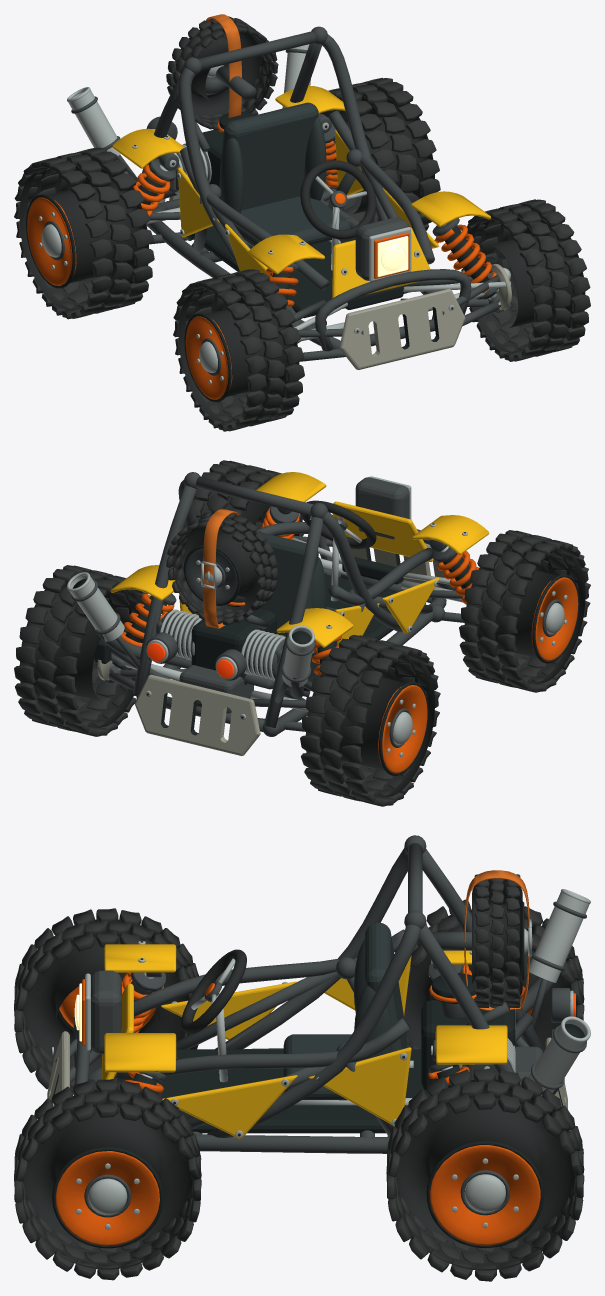
Rendered from dune-hopper.glb.
3 renders of one model, top to bottom at view 1: azimuth 30°, elevation 25°; view 2: azimuth 150°, elevation 25°; view 3: azimuth 270°, elevation 25°, orthographic. The views are drawn at different scales.
Visible parts, largest first — view 1: Dune_Static_Body, Dune_Spin_RL_Mesh, Dune_Spin_FL_Mesh, Dune_Spin_FR_Mesh, Dune_Seat_Root_Mesh, Dune_Spin_RR_Mesh, Dune_Spare_Mount_Mesh, Dune_Steering_Spin_Mesh; view 2: Dune_Static_Body, Dune_Spin_RL_Mesh, Dune_Spin_FL_Mesh, Dune_Spin_RR_Mesh, Dune_Spare_Mount_Mesh, Dune_Seat_Root_Mesh, Dune_Spin_FR_Mesh, Dune_Steering_Spin_Mesh; view 3: Dune_Static_Body, Dune_Spin_RR_Mesh, Dune_Spin_FR_Mesh, Dune_Spin_FL_Mesh, Dune_Spare_Mount_Mesh, Dune_Seat_Root_Mesh, Dune_Spin_RL_Mesh, Dune_Steering_Spin_Mesh.
Boxes of the visible parts, x1=… form: Dune_Static_Body: x1=67, y1=14, x2=511, y2=369; Dune_Spin_RL_Mesh: x1=14, y1=147, x2=154, y2=319; Dune_Spin_FL_Mesh: x1=173, y1=269, x2=304, y2=431; Dune_Spin_FR_Mesh: x1=461, y1=199, x2=590, y2=361; Dune_Seat_Root_Mesh: x1=219, y1=102, x2=351, y2=246; Dune_Spin_RR_Mesh: x1=320, y1=77, x2=440, y2=230; Dune_Spare_Mount_Mesh: x1=166, y1=16, x2=278, y2=129; Dune_Steering_Spin_Mesh: x1=300, y1=160, x2=376, y2=239; Dune_Static_Body: x1=67, y1=472, x2=489, y2=755; Dune_Spin_RL_Mesh: x1=300, y1=635, x2=440, y2=806; Dune_Spin_FL_Mesh: x1=459, y1=530, x2=590, y2=692; Dune_Spin_RR_Mesh: x1=14, y1=565, x2=147, y2=736; Dune_Spare_Mount_Mesh: x1=166, y1=511, x2=278, y2=624; Dune_Seat_Root_Mesh: x1=255, y1=531, x2=336, y2=653; Dune_Spin_FR_Mesh: x1=178, y1=460, x2=303, y2=593; Dune_Steering_Spin_Mesh: x1=301, y1=500, x2=376, y2=548; Dune_Static_Body: x1=47, y1=835, x2=590, y2=1180; Dune_Spin_RR_Mesh: x1=386, y1=1068, x2=584, y2=1281; Dune_Spin_FR_Mesh: x1=14, y1=1078, x2=201, y2=1280; Dune_Spin_FL_Mesh: x1=14, y1=908, x2=198, y2=1094; Dune_Spare_Mount_Mesh: x1=472, y1=874, x2=528, y2=1007; Dune_Seat_Root_Mesh: x1=283, y1=922, x2=413, y2=1105; Dune_Spin_RL_Mesh: x1=404, y1=899, x2=584, y2=1049; Dune_Steering_Spin_Mesh: x1=181, y1=949, x2=246, y2=1034.
Size of the model in its own units: 3 by 1.97 by 3.38.
